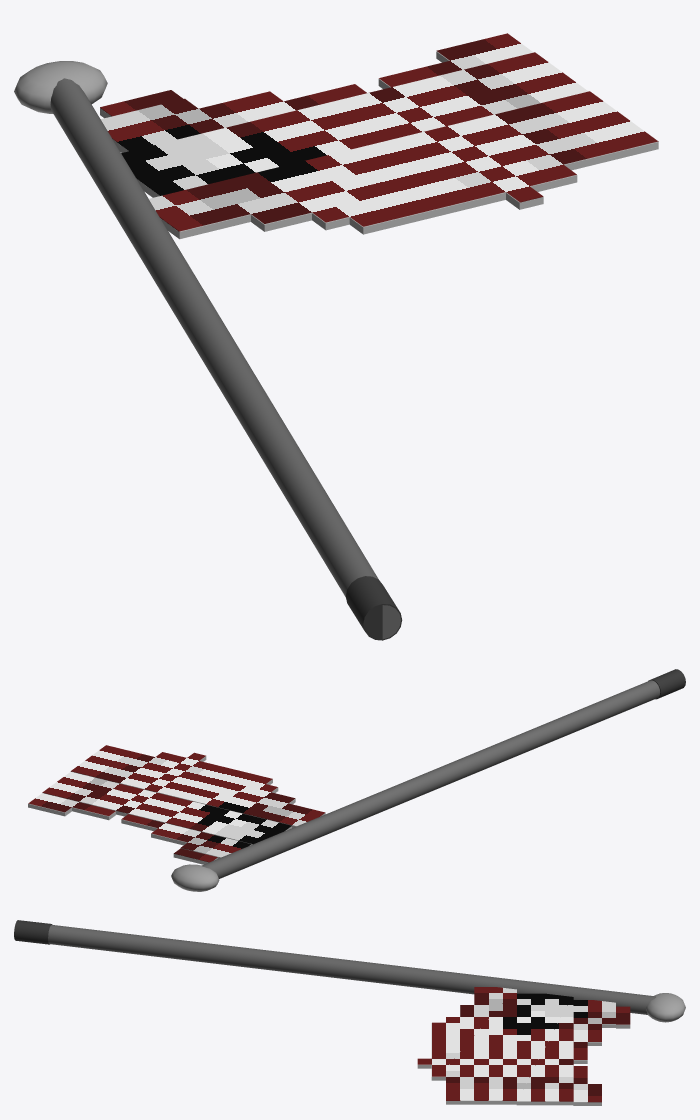
Rendered from CMU3DAU14FlagCarriableUADecorFinalCloud.glb.
The picture shows the model from 3 angles, top to bottom: view 1: azimuth 30°, elevation 25°; view 2: azimuth 150°, elevation 25°; view 3: azimuth 270°, elevation 25°; orthographic projection. The views are drawn at different scales.
Parts seen in each view (by area): view 1: loose cloth fold 3 original face, continuous round diagonal loose pole, loose cloth fold 2 original face, loose cloth fold 1 original face, rounded pole finial, dark lower ferrule, loose cloth fold 3 contour backing 3, loose cloth fold 3 contour backing 2, loose cloth fold 0 original face; view 2: continuous round diagonal loose pole, loose cloth fold 3 original face, loose cloth fold 2 original face, loose cloth fold 1 original face, rounded pole finial, dark lower ferrule; view 3: continuous round diagonal loose pole, loose cloth fold 3 original face, loose cloth fold 2 original face, loose cloth fold 1 original face, rounded pole finial, dark lower ferrule.
Boxes of the visible parts, x1,y1,x2,y2 form: loose cloth fold 3 original face: [149, 91, 658, 231]; continuous round diagonal loose pole: [50, 78, 400, 638]; loose cloth fold 2 original face: [121, 52, 588, 195]; loose cloth fold 1 original face: [101, 33, 533, 151]; rounded pole finial: [14, 61, 107, 113]; dark lower ferrule: [345, 576, 402, 640]; loose cloth fold 3 contour backing 3: [349, 175, 577, 234]; loose cloth fold 3 contour backing 2: [312, 141, 658, 230]; loose cloth fold 0 original face: [100, 90, 183, 116]; continuous round diagonal loose pole: [201, 680, 660, 878]; loose cloth fold 3 original face: [71, 745, 325, 826]; loose cloth fold 2 original face: [42, 772, 291, 844]; loose cloth fold 1 original face: [28, 793, 250, 857]; rounded pole finial: [171, 864, 219, 891]; dark lower ferrule: [648, 669, 685, 699]; continuous round diagonal loose pole: [48, 925, 655, 1014]; loose cloth fold 3 original face: [417, 987, 516, 1100]; loose cloth fold 2 original face: [517, 993, 573, 1101]; loose cloth fold 1 original face: [573, 1000, 615, 1102]; rounded pole finial: [646, 993, 685, 1022]; dark lower ferrule: [14, 920, 52, 944].
Bounding box in the file's own units: 0.9317 × 0.05 × 1.48.
Materials: 8 (4 with a texture image).
